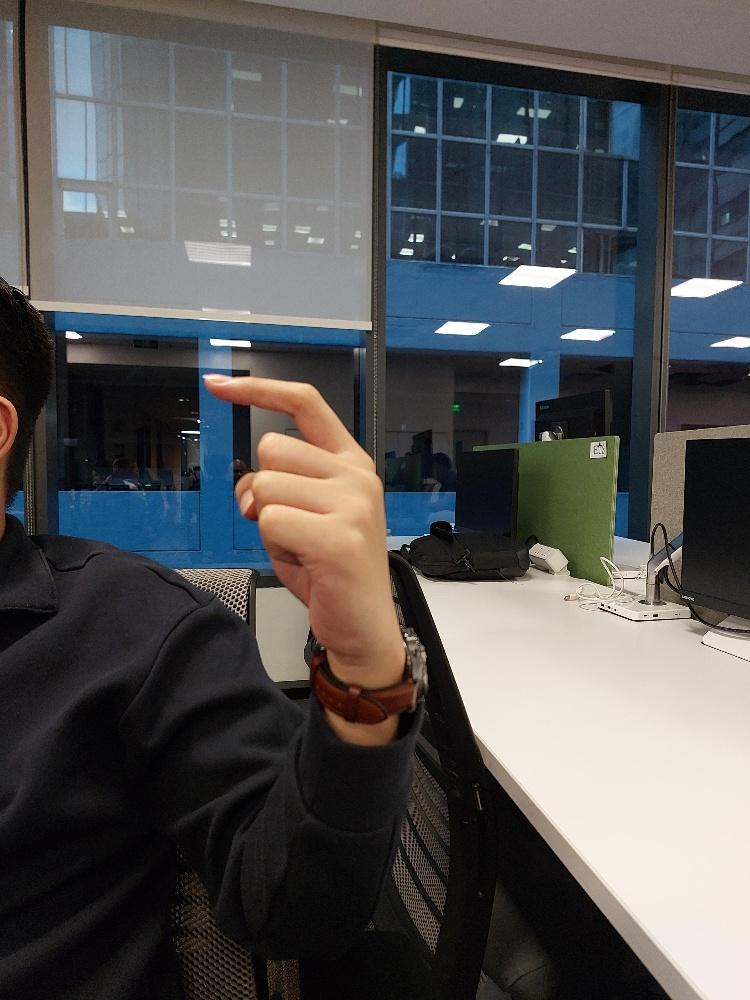x: (201, 372, 393, 653)
